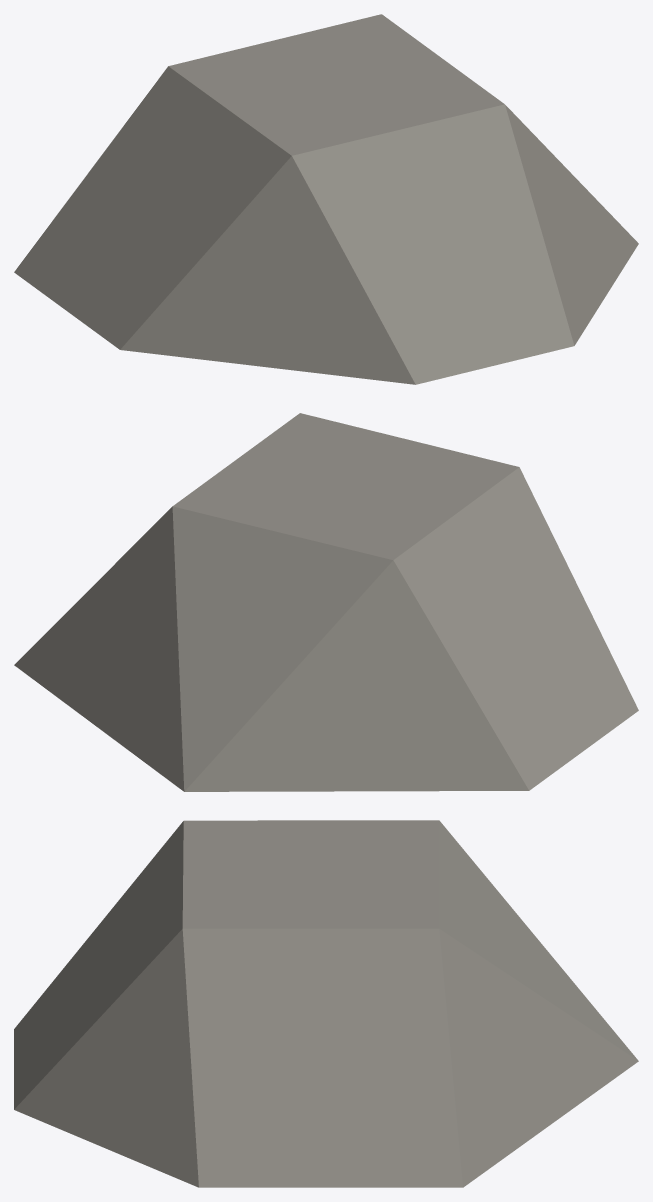
Rendered from Rock_Round_s_04 2.fbx.
3 renders of one model, top to bottom at view 1: azimuth 30°, elevation 25°; view 2: azimuth 150°, elevation 25°; view 3: azimuth 270°, elevation 25°, orthographic. The views are drawn at different scales.
Visible parts, largest first — view 1: Rock_Round_s_04; view 2: Rock_Round_s_04; view 3: Rock_Round_s_04.
Boxes of the visible parts, x1,y1,x2,y2 form: Rock_Round_s_04: (14, 14, 638, 384); Rock_Round_s_04: (14, 413, 638, 791); Rock_Round_s_04: (14, 820, 638, 1187).
Bounding box in the file's own units: 25.23 × 8.7 × 26.34.
